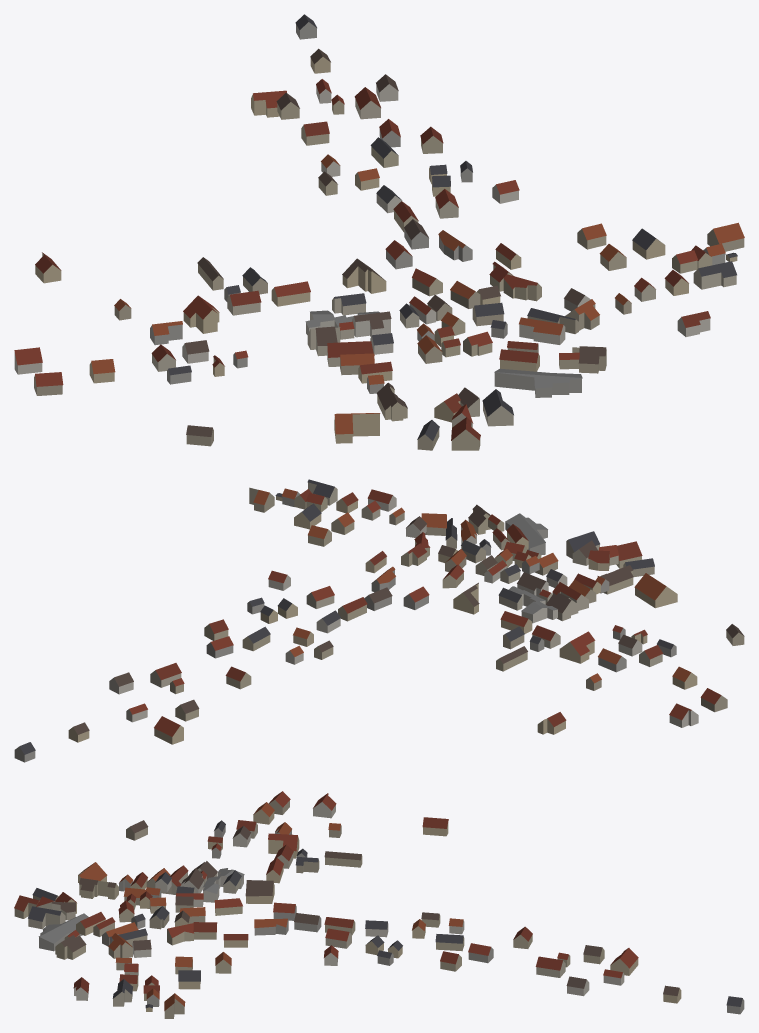
3 renders of one model, top to bottom at view 1: azimuth 30°, elevation 25°; view 2: azimuth 150°, elevation 25°; view 3: azimuth 270°, elevation 25°, orthographic. The views are drawn at different scales.
Visible parts, largest first — view 1: buildings; view 2: buildings; view 3: buildings.
Part boxes in pixels (x1,y1,x2,y2): buildings: (14, 14, 744, 450); buildings: (14, 479, 744, 762); buildings: (14, 791, 744, 1018).
Size of the model in its own units: 411 by 43.24 by 509.
